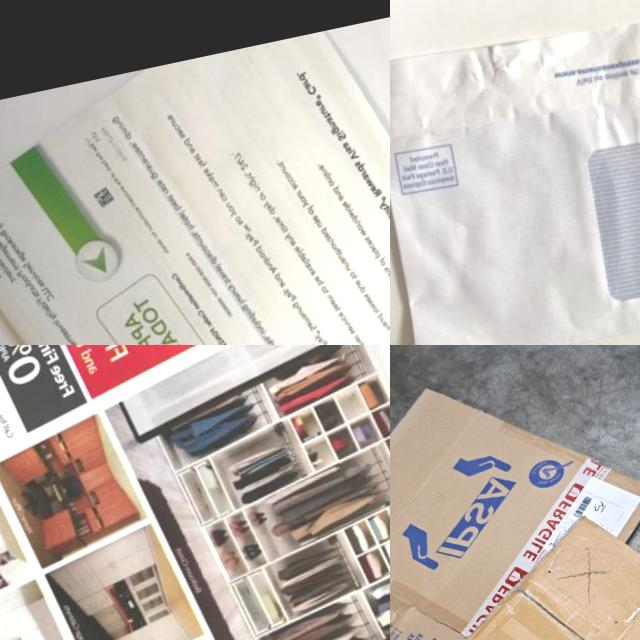papel: (0, 3, 390, 345), (0, 345, 390, 640), (390, 0, 640, 345)
papelão: (390, 346, 640, 640), (422, 466, 640, 640)
